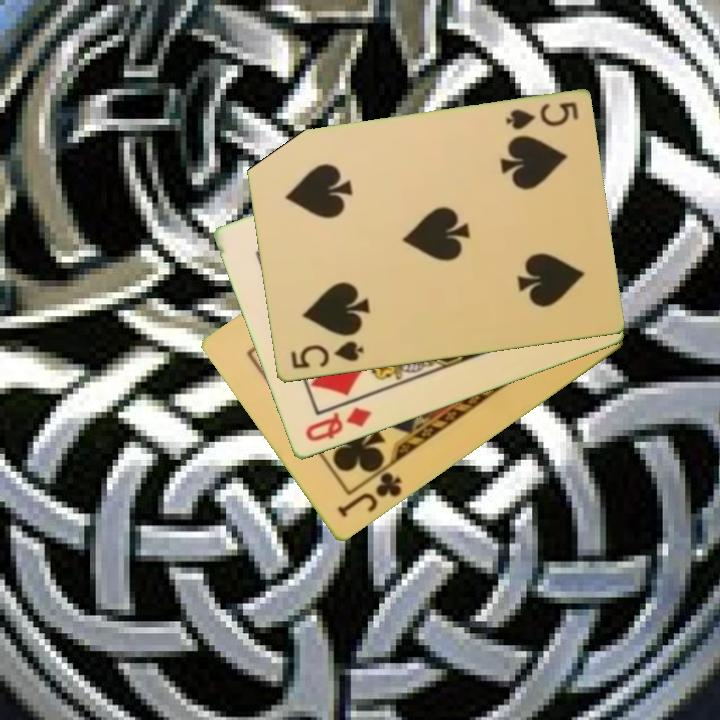5s: (286, 338, 366, 373), (501, 99, 581, 133)
Jc: (334, 469, 405, 522)
Qd: (301, 404, 375, 445)
